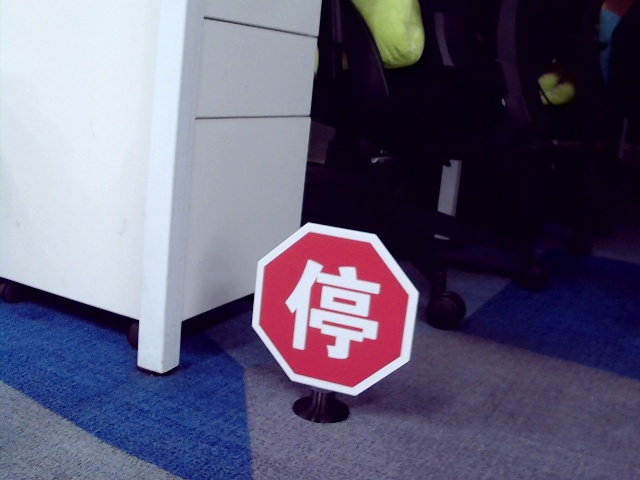stop: (287, 253, 381, 356)
